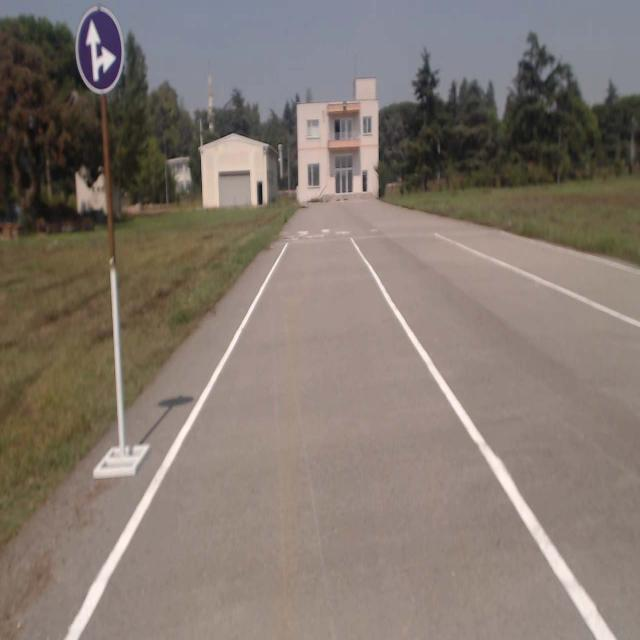ilerisag: (76, 9, 121, 84)
